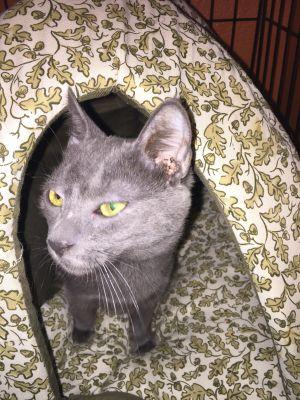rblue: (29, 82, 205, 295)
